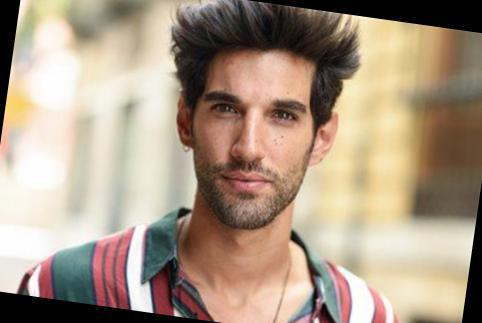Sober: (197, 54, 311, 204)
